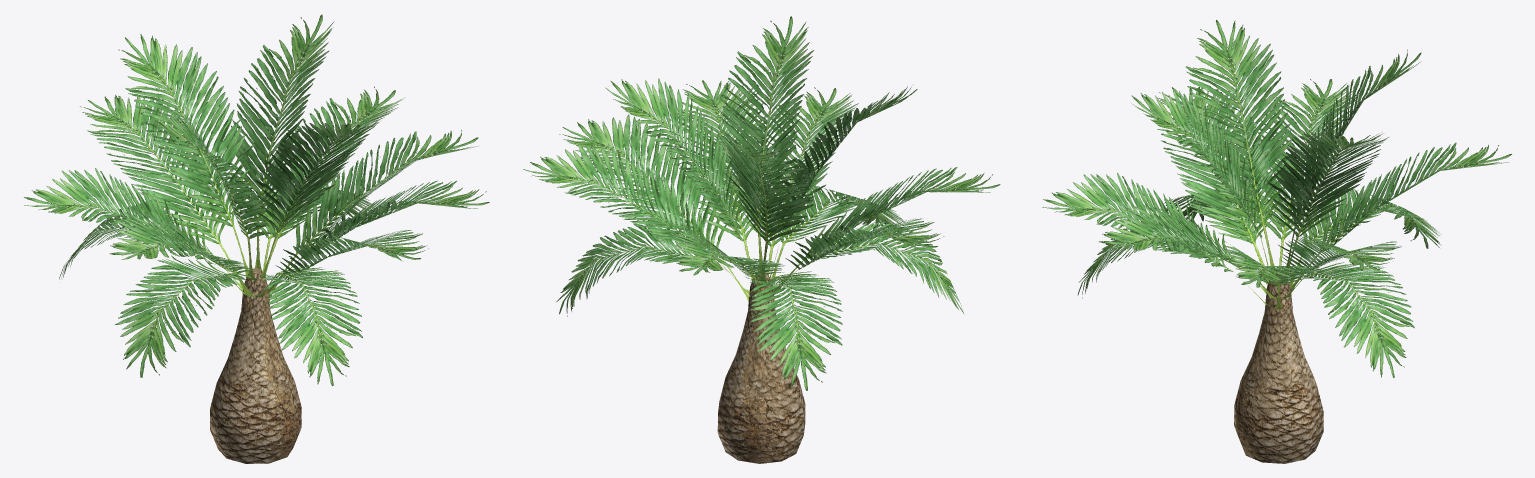
File: Hyp_LOD0.fbx
3 views of the same model, side by side, from view 1: azimuth 30°, elevation 25°; view 2: azimuth 150°, elevation 25°; view 3: azimuth 270°, elevation 25° (orthographic).
Visible parts, largest first — view 1: Mesh Object; view 2: Mesh Object; view 3: Mesh Object.
Boxes of the visible parts, left/top/right/bottom form: Mesh Object: left=24, top=14, right=489, bottom=463; Mesh Object: left=523, top=16, right=1000, bottom=463; Mesh Object: left=1042, top=20, right=1511, bottom=463.
Bounding box in the file's own units: 12.97 × 10.98 × 13.12.
